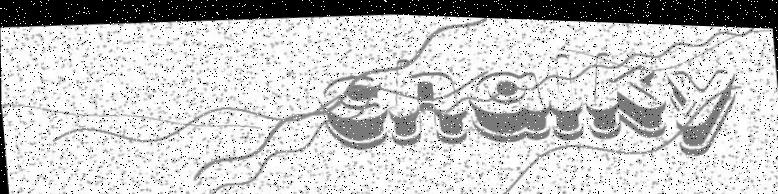a: (464, 61, 551, 142)
c: (319, 68, 389, 150)
h: (382, 50, 470, 146)
k: (580, 40, 669, 139)
l: (544, 46, 584, 139)
y: (664, 58, 744, 154)
